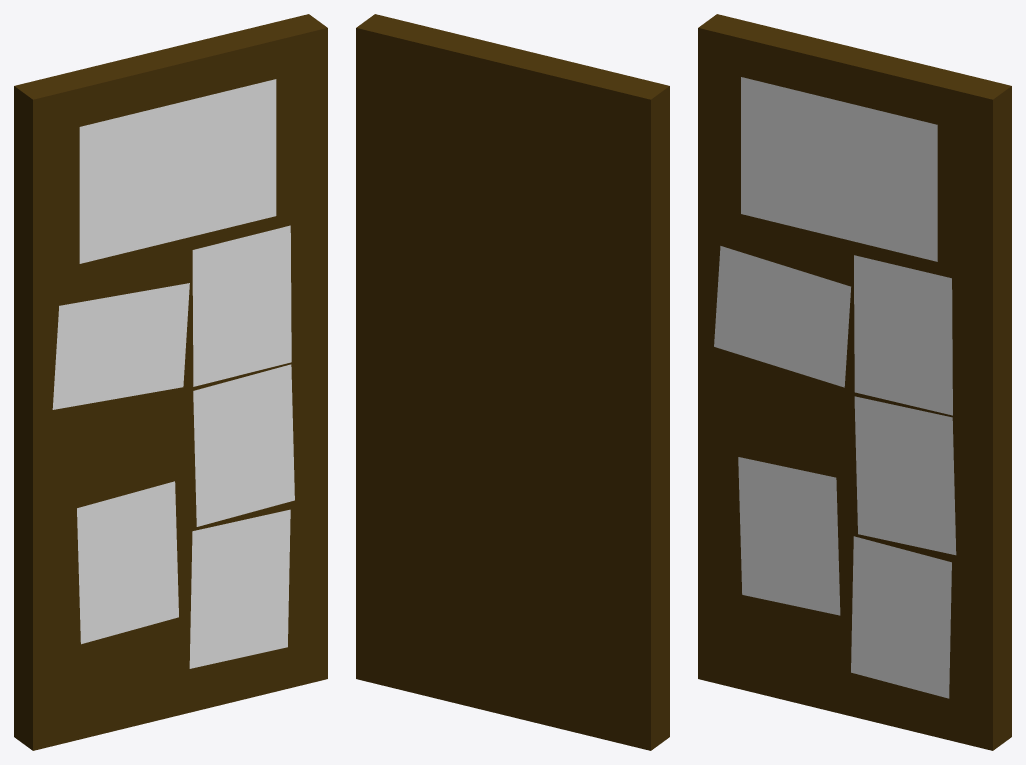
The model's file is board01.obj.
3 renders of one model, left to right at view 1: azimuth 30°, elevation 25°; view 2: azimuth 150°, elevation 25°; view 3: azimuth 330°, elevation 25°, orthographic.
Parts seen in each view (by area): view 1: Board_Cube.001, Photo, Paper02, Paper03, Paper04, Paper05, Paper01; view 2: Board_Cube.001; view 3: Board_Cube.001, Photo, Paper04, Paper03, Paper05, Paper02, Paper01.
Boxes of the visible parts, x1,y1,x2,y2 form: Board_Cube.001: (14, 14, 327, 750); Photo: (79, 79, 276, 263); Paper02: (192, 225, 291, 386); Paper03: (193, 364, 294, 526); Paper04: (189, 509, 290, 668); Paper05: (77, 481, 178, 644); Paper01: (52, 283, 189, 409); Board_Cube.001: (356, 14, 669, 750); Board_Cube.001: (698, 14, 1011, 750); Photo: (741, 77, 937, 261); Paper04: (851, 536, 951, 698); Paper03: (854, 396, 956, 555); Paper05: (738, 457, 840, 615); Paper02: (854, 255, 952, 415); Paper01: (714, 246, 850, 387).
Bounding box in the file's own units: 0.9 × 1.9 × 0.11.
